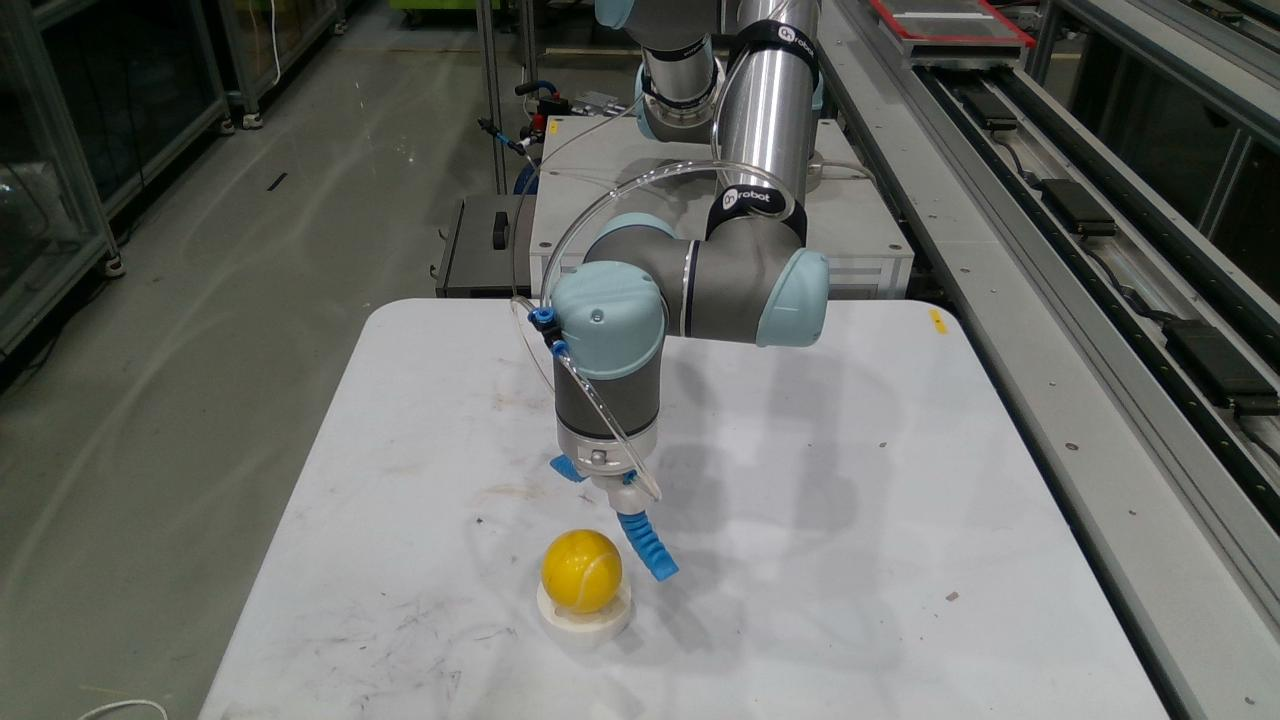UR5: (551, 0, 829, 514)
gripper_left: (550, 455, 585, 482)
gripper_right: (617, 510, 677, 581)
target: (540, 529, 624, 614), (535, 579, 633, 648)
